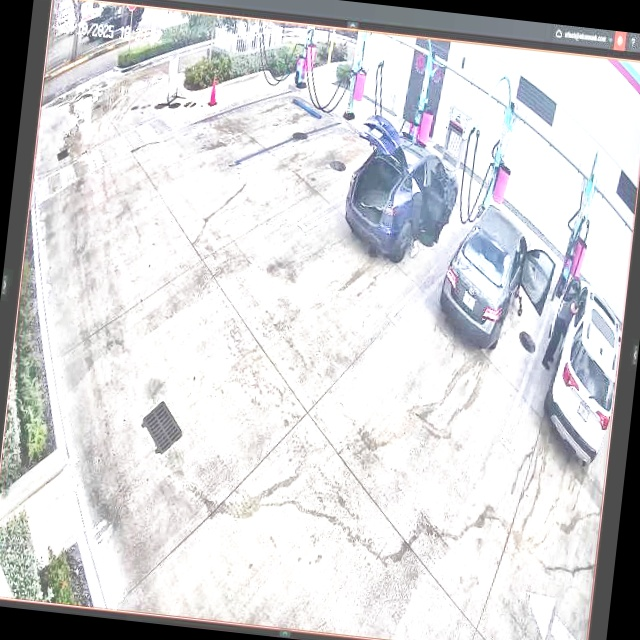Car: (437, 198, 559, 355), (342, 117, 465, 266)
